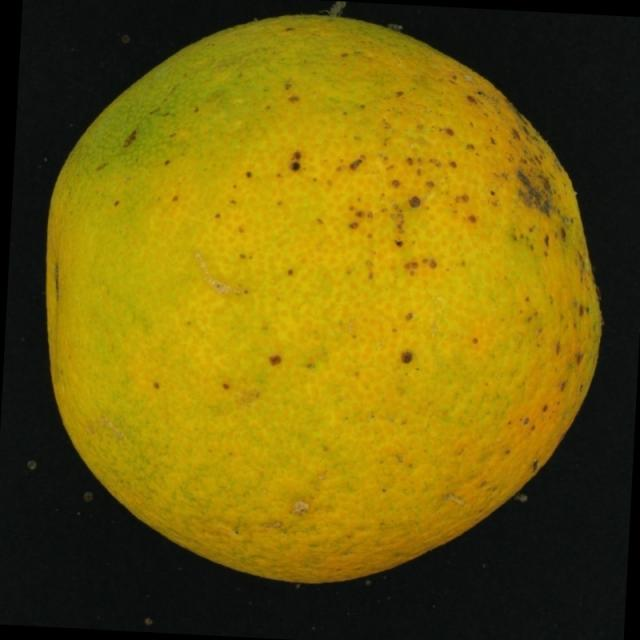grenning: (26, 8, 621, 610)
